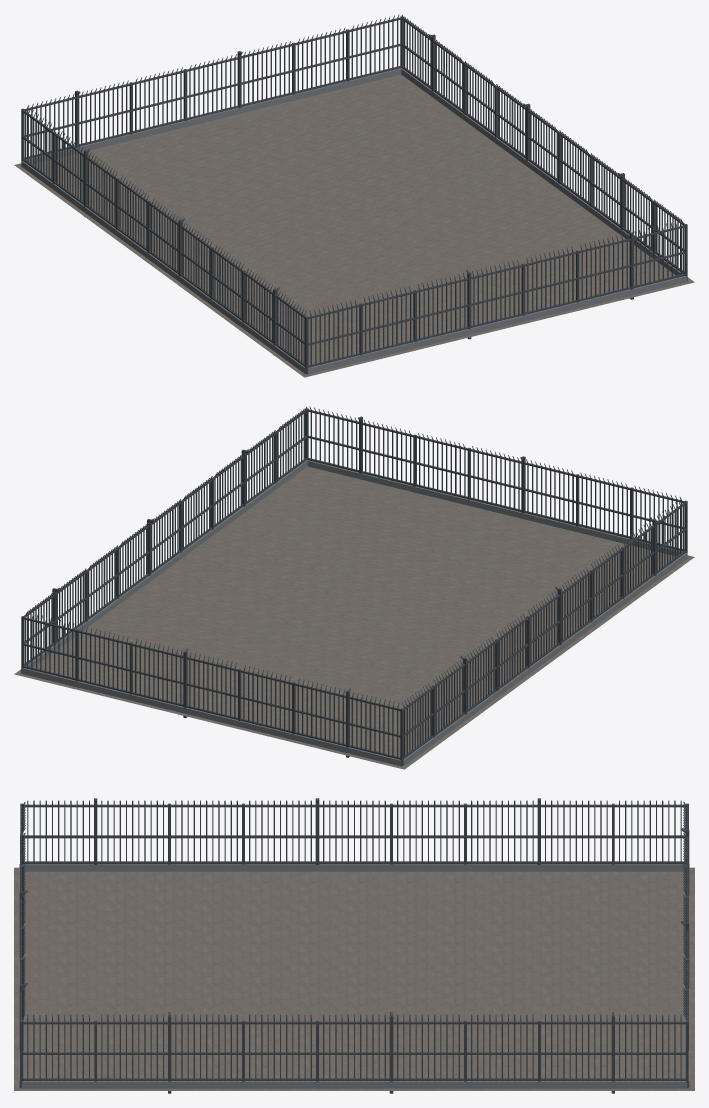
File: perimeter.glb
3 renders of one model, top to bottom at view 1: azimuth 30°, elevation 25°; view 2: azimuth 150°, elevation 25°; view 3: azimuth 270°, elevation 25°, orthographic. The views are drawn at different scales.
Visible parts, largest first — view 1: Utility paving, Angled security tip, Continuous concrete footing; view 2: Utility paving, Angled security tip, Continuous concrete footing; view 3: Utility paving, Angled security tip, Continuous concrete footing.
Part boxes in pixels (x1,y1,x2,y2): Utility paving: (14, 74, 694, 377); Angled security tip: (21, 14, 687, 374); Continuous concrete footing: (21, 68, 686, 374); Utility paving: (14, 466, 694, 769); Angled security tip: (21, 406, 687, 766); Continuous concrete footing: (22, 460, 687, 766); Utility paving: (14, 867, 694, 1090); Angled security tip: (19, 798, 689, 1093); Continuous concrete footing: (19, 864, 689, 1088).
Bounding box in the file's own units: 52 × 8.58 × 67.
Materials: 3 (1 with a texture image).
